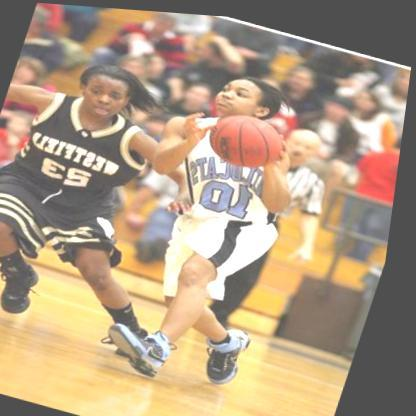basketball: (206, 103, 295, 171)
